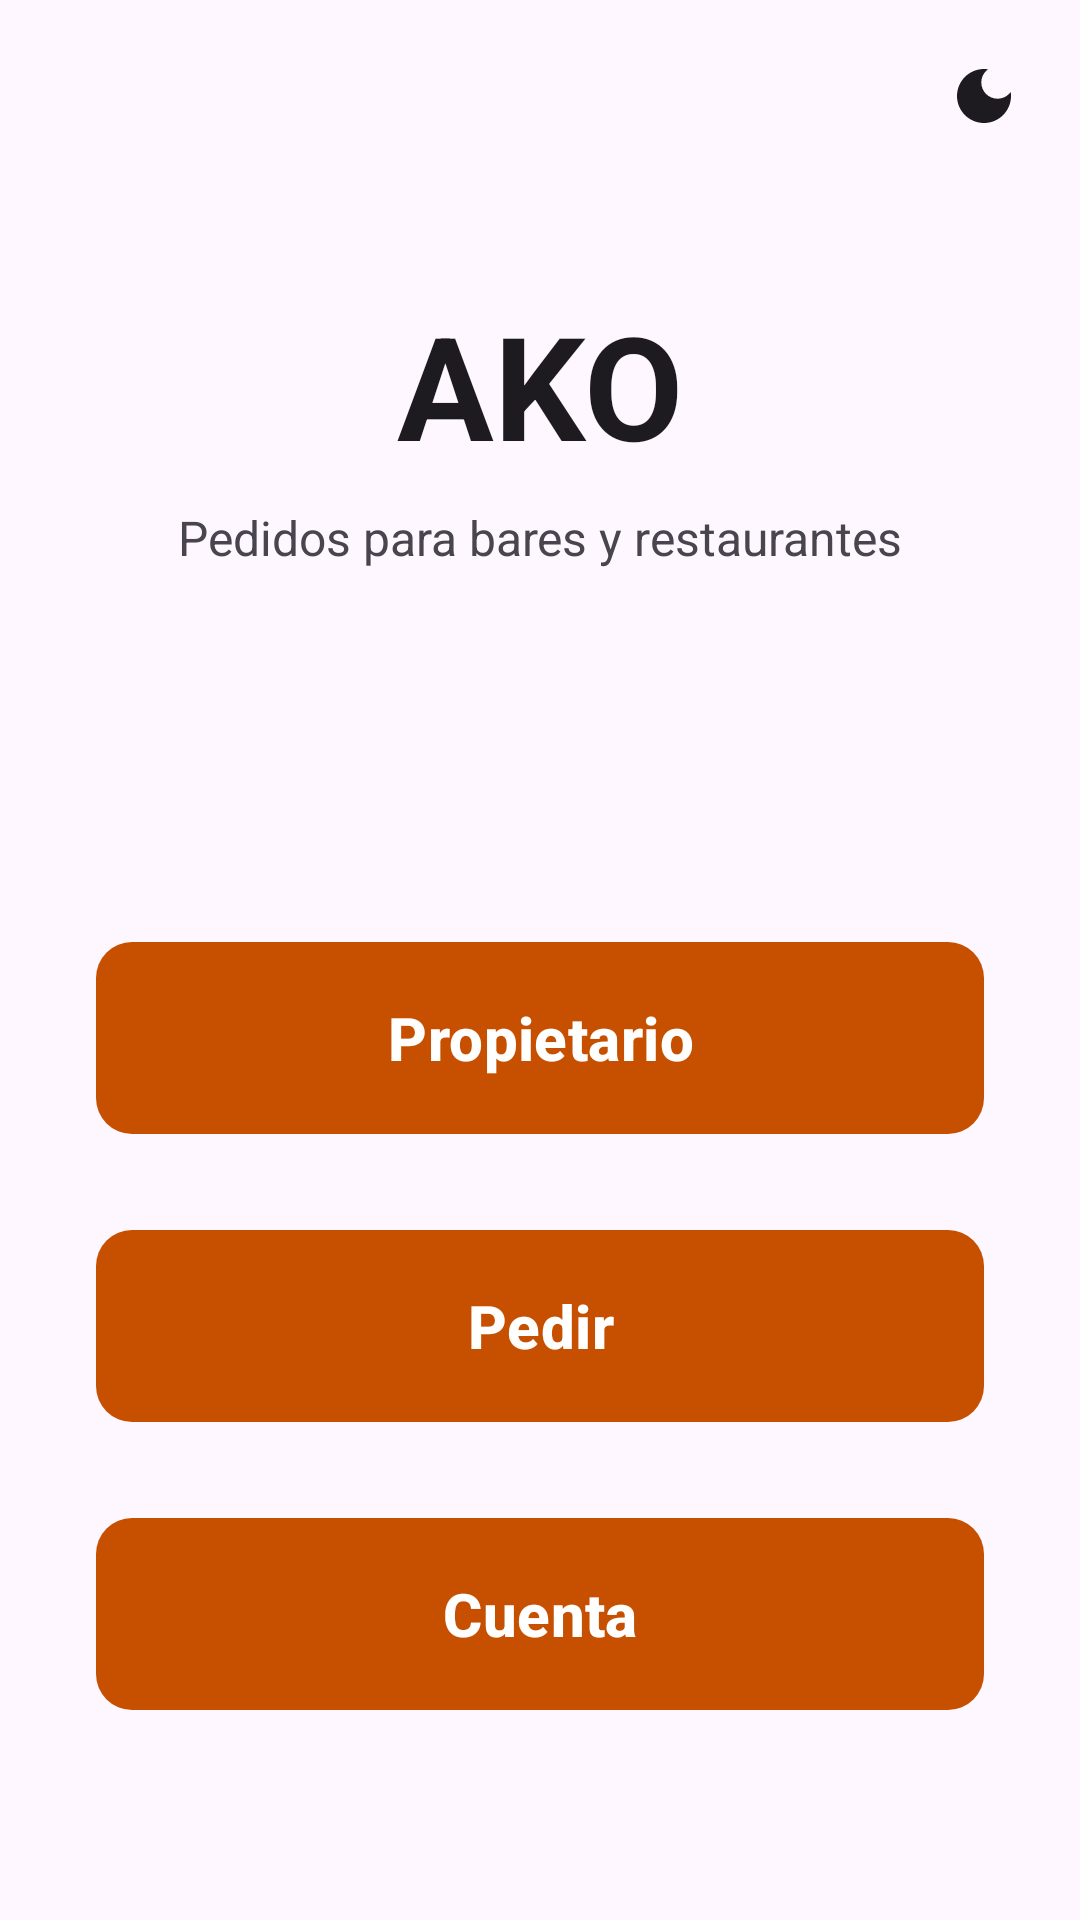

Where to tap for icons on this 1080 × 1920 app screen, as (x=x, y=y):
Cambiar a modo oscuro: (x=984, y=96)
